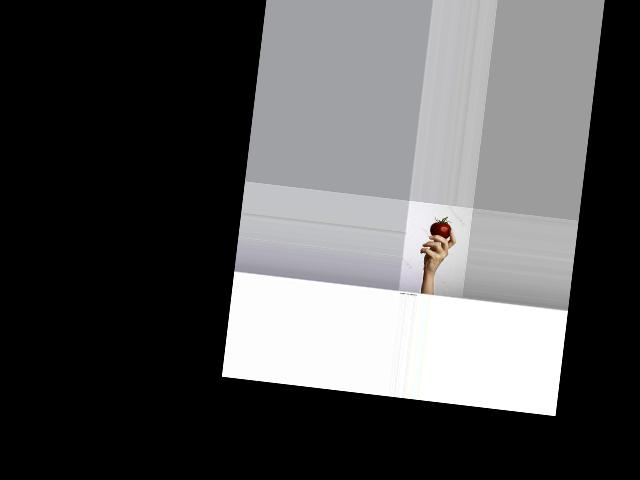tomato: (429, 215, 452, 238)
